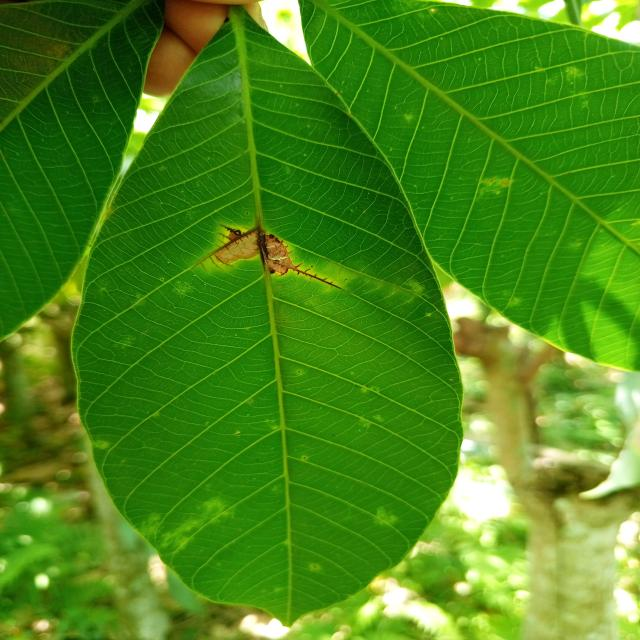Corynespora: (190, 222, 255, 270), (275, 263, 350, 294)
Leaf-Blight: (214, 232, 258, 263), (266, 236, 295, 274)
